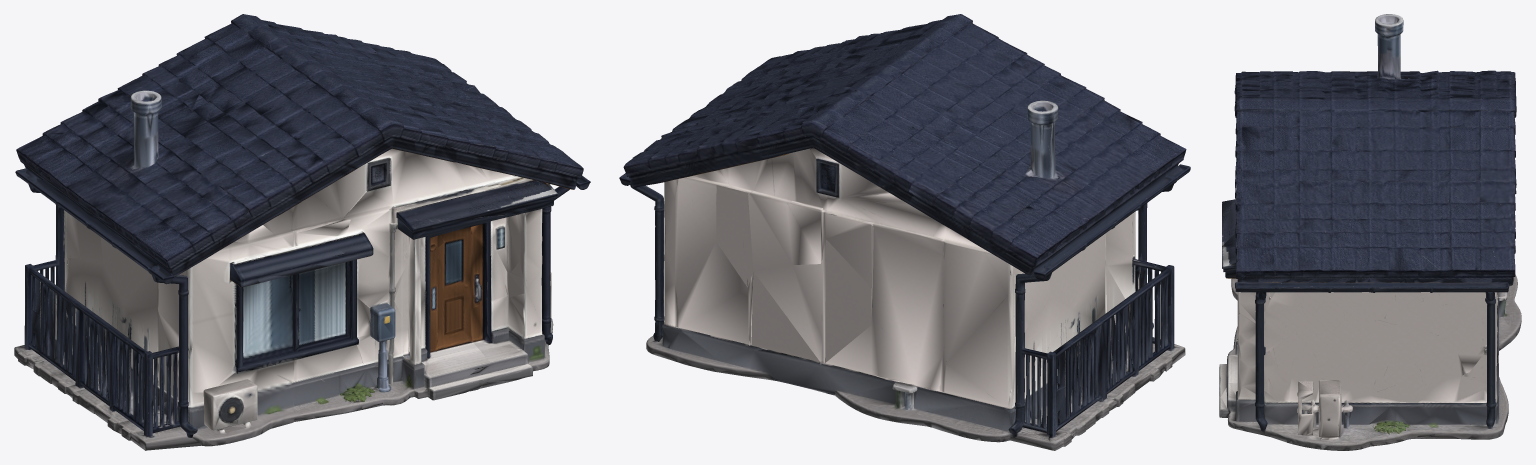
Rendered from BLD_009_residence_c_source.glb.
3 views of the same model, side by side, from view 1: azimuth 30°, elevation 25°; view 2: azimuth 150°, elevation 25°; view 3: azimuth 270°, elevation 25° (orthographic). The views are drawn at different scales.
Visible parts, largest first — view 1: Mesh_0.001; view 2: Mesh_0.001; view 3: Mesh_0.001.
Boxes of the visible parts, x1,y1,x2,y2 form: Mesh_0.001: (14, 14, 590, 450); Mesh_0.001: (619, 14, 1190, 450); Mesh_0.001: (1219, 14, 1521, 450).
Size of the model in its own units: 6.21 by 3.8 by 3.94.
Materials: 1 (1 with a texture image).
